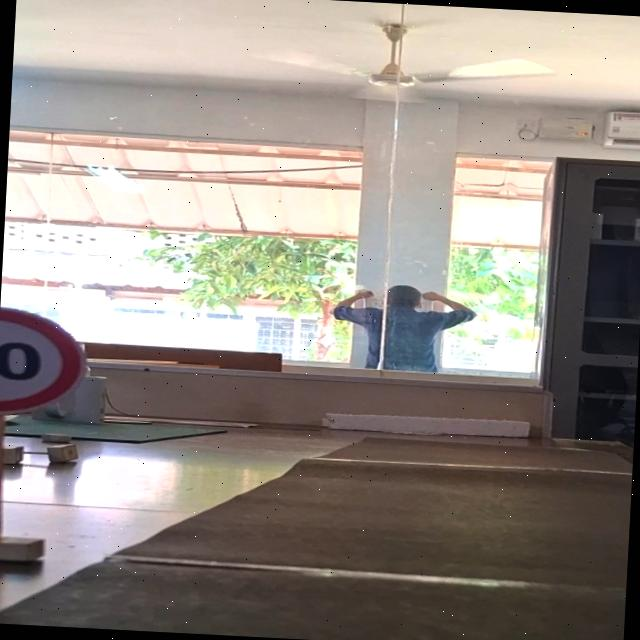Speed20: (0, 302, 94, 425)
